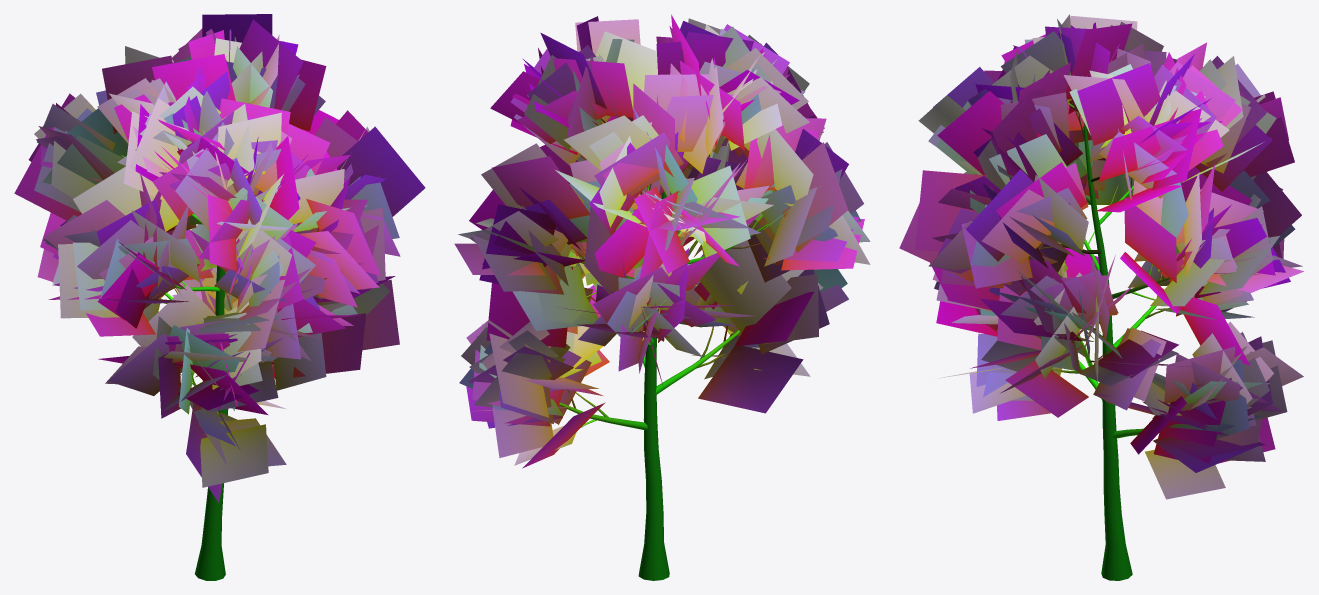
File: TreeLinden.fbx
3 renders of one model, left to right at view 1: azimuth 30°, elevation 25°; view 2: azimuth 150°, elevation 25°; view 3: azimuth 270°, elevation 25°, orthographic. The views are drawn at different scales.
Parts seen in each view (by area): view 1: TreeLinden_LOD0; view 2: TreeLinden_LOD0; view 3: TreeLinden_LOD0.
Boxes of the visible parts, <box> form: TreeLinden_LOD0: <box>14,14,425,580</box>; TreeLinden_LOD0: <box>454,14,870,580</box>; TreeLinden_LOD0: <box>899,14,1303,580</box>.
Size of what is drawn, in the model's own units: 6.49 by 9.91 by 6.69.
